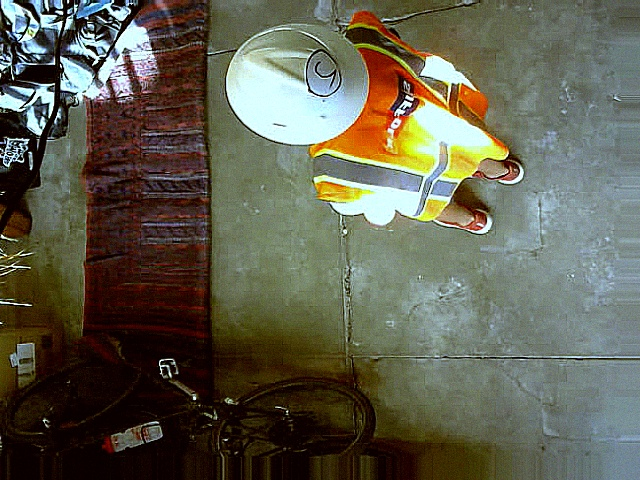two: (304, 48, 341, 96)
